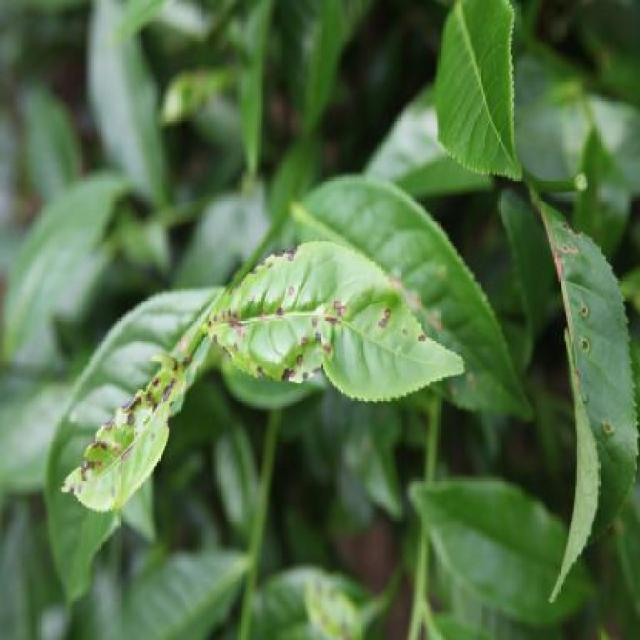Tea Mosquito bug infested leaf: (216, 235, 482, 394), (77, 332, 200, 517)
